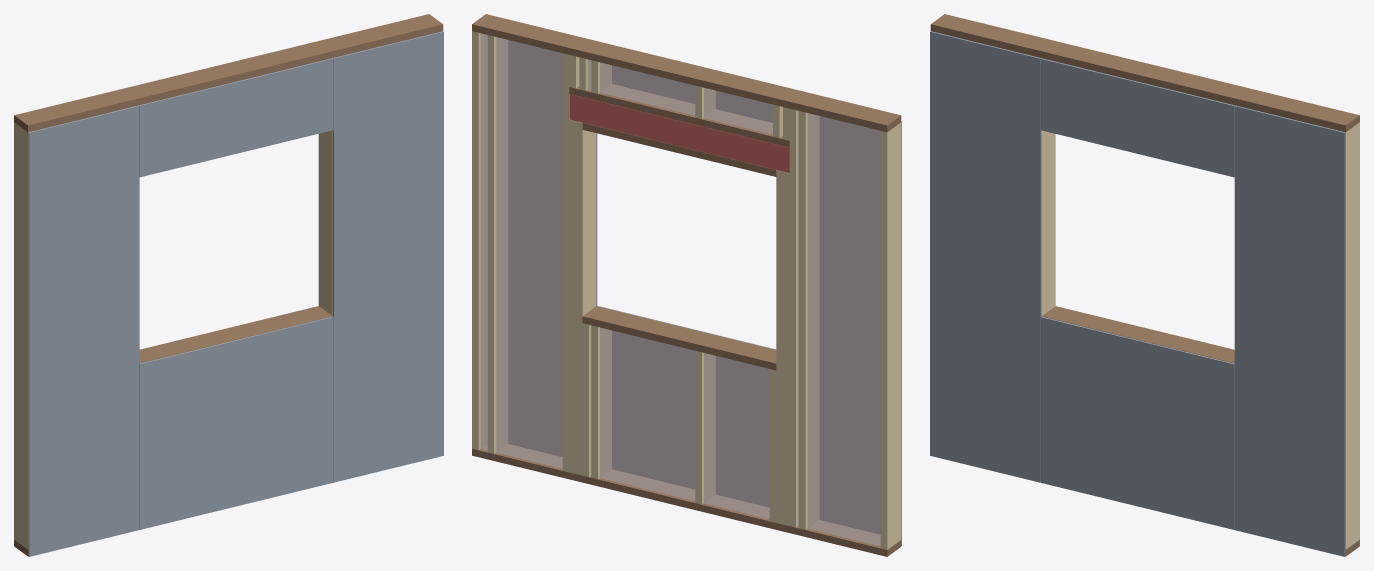
The picture shows the model from 3 angles, left to right: view 1: azimuth 30°, elevation 25°; view 2: azimuth 150°, elevation 25°; view 3: azimuth 330°, elevation 25°; orthographic projection.
Parts seen in each view (by area): view 1: EX5 FF; view 2: EX5 FF; view 3: EX5 FF.
Boxes of the visible parts, <box> form: EX5 FF: <box>14,14,443,556</box>; EX5 FF: <box>472,14,901,556</box>; EX5 FF: <box>930,14,1359,556</box>.
Bounding box in the file's own units: 2.4 × 2.38 × 0.149.
